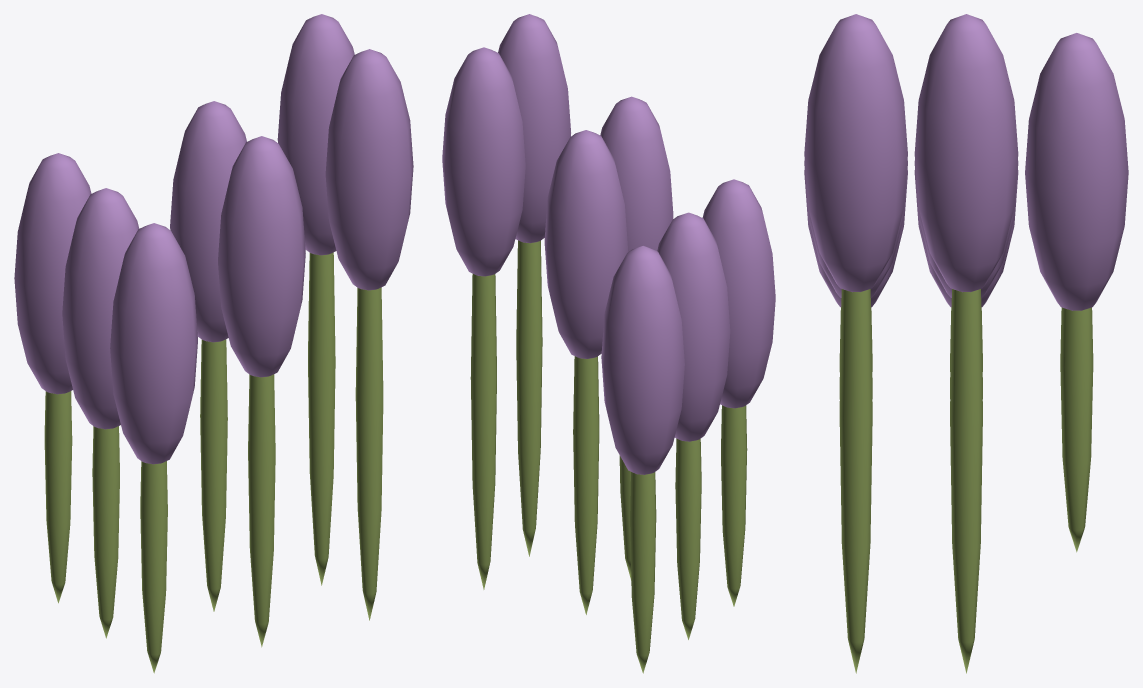
Rendered from LavenderPatch.fbx.
3 renders of one model, left to right at view 1: azimuth 30°, elevation 25°; view 2: azimuth 150°, elevation 25°; view 3: azimuth 270°, elevation 25°, orthographic. The views are drawn at different scales.
Parts seen in each view (by area): view 1: LavenderPatch; view 2: LavenderPatch; view 3: LavenderPatch.
Part boxes in pixels (bbox=[...]): LavenderPatch: bbox=[14, 14, 413, 673]; LavenderPatch: bbox=[442, 14, 775, 673]; LavenderPatch: bbox=[804, 14, 1128, 673].
Size of the model in its own units: 0.3494 by 0.66 by 0.294.
